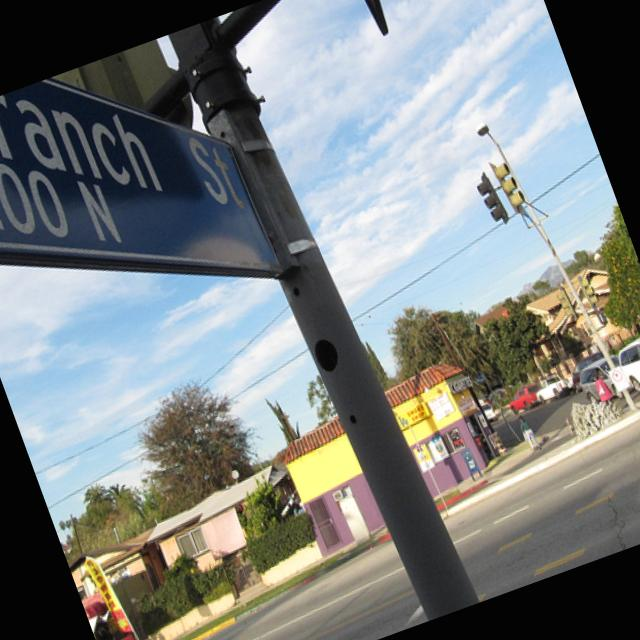Vehicle: (572, 353, 632, 411), (566, 351, 614, 394), (613, 325, 640, 397), (530, 371, 573, 409), (505, 383, 544, 418), (481, 402, 497, 424)
